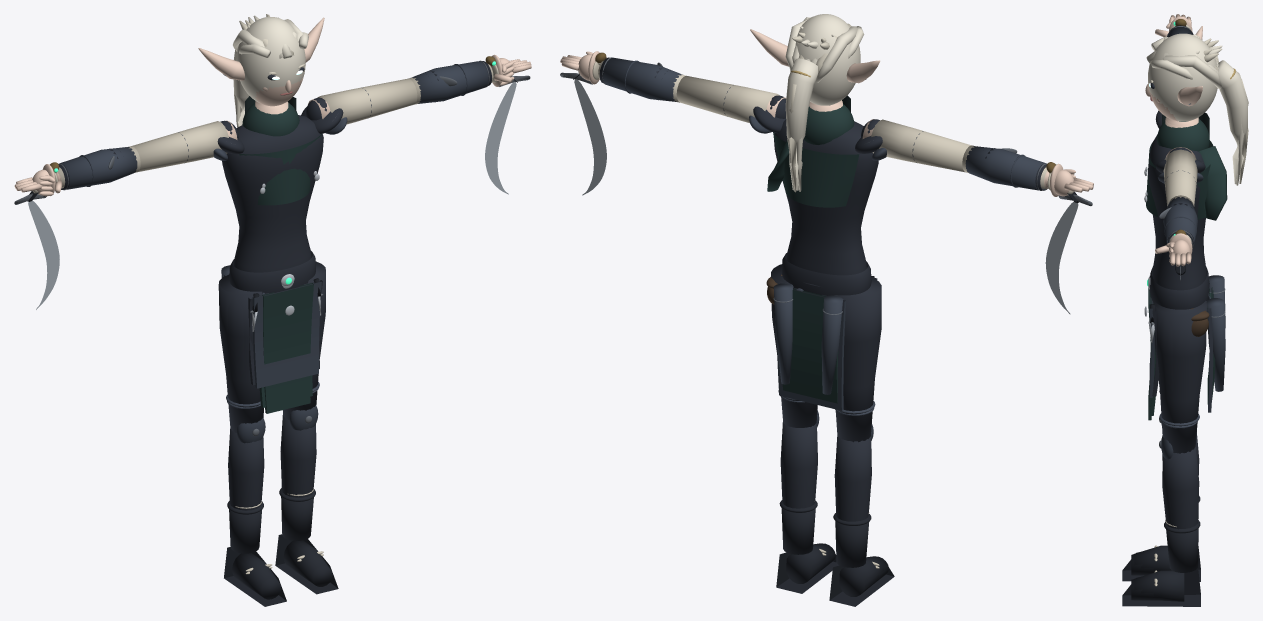
The model's file is ElfAssassin_proxy_lowpoly.glb.
3 renders of one model, left to right at view 1: azimuth 30°, elevation 25°; view 2: azimuth 150°, elevation 25°; view 3: azimuth 270°, elevation 25°, orthographic. The views are drawn at different scales.
Parts seen in each view (by area): view 1: Torso, TabardFront, HairCap, Thigh_R.001, TabardInner, Arm_R.001, Arm_L.001, Bracer_R, Bracer_L, BackMantle, Belt, Shin_R (+14 smaller); view 2: Torso, Thigh_R.001, BackMantle, HairCap, Arm_R.001, Arm_L.001, Bracer_L, Bracer_R, TabardBack.001, Shin_L, Belt, Ponytail (+18 smaller); view 3: Thigh_L.001, HairCap, Torso, Shin_L.001, Ponytail, Arm_L.001, ScarfTail, Belt, Thigh_L, Boot_L, Sheath_L, Cowl (+25 smaller).
Part boxes in pixels (x1,y1,x2,y2): Torso: [222, 115, 323, 272]; TabardFront: [262, 283, 313, 413]; HairCap: [236, 17, 305, 102]; Thigh_R.001: [218, 274, 263, 432]; TabardInner: [252, 280, 321, 388]; Arm_R.001: [132, 121, 228, 172]; Arm_L.001: [317, 78, 417, 124]; Bracer_R: [60, 147, 137, 189]; Bracer_L: [412, 61, 488, 103]; BackMantle: [239, 134, 321, 205]; Belt: [229, 250, 315, 293]; Shin_R: [233, 431, 263, 510]; Torso: [773, 119, 878, 275]; Thigh_R.001: [834, 278, 881, 442]; BackMantle: [773, 132, 859, 207]; HairCap: [790, 14, 860, 105]; Arm_R.001: [871, 119, 971, 172]; Arm_L.001: [676, 75, 779, 122]; Bracer_L: [603, 57, 682, 101]; Bracer_R: [965, 146, 1045, 190]; TabardBack.001: [782, 333, 838, 403]; Shin_L: [782, 422, 813, 508]; Belt: [781, 253, 871, 295]; Ponytail: [785, 58, 817, 190]; Thigh_L.001: [1154, 300, 1206, 453]; HairCap: [1148, 33, 1217, 121]; Torso: [1148, 134, 1206, 303]; Shin_L.001: [1169, 453, 1195, 529]; Ponytail: [1218, 60, 1247, 184]; Arm_L.001: [1163, 149, 1197, 206]; ScarfTail: [1198, 146, 1227, 220]; Belt: [1149, 266, 1209, 309]; Thigh_L: [1155, 301, 1205, 439]; Boot_L: [1166, 528, 1198, 572]; Sheath_L: [1206, 298, 1225, 391]; Cowl: [1157, 119, 1209, 151].
Bounding box in the file's own units: 1.8 × 1.86 × 0.3852.
